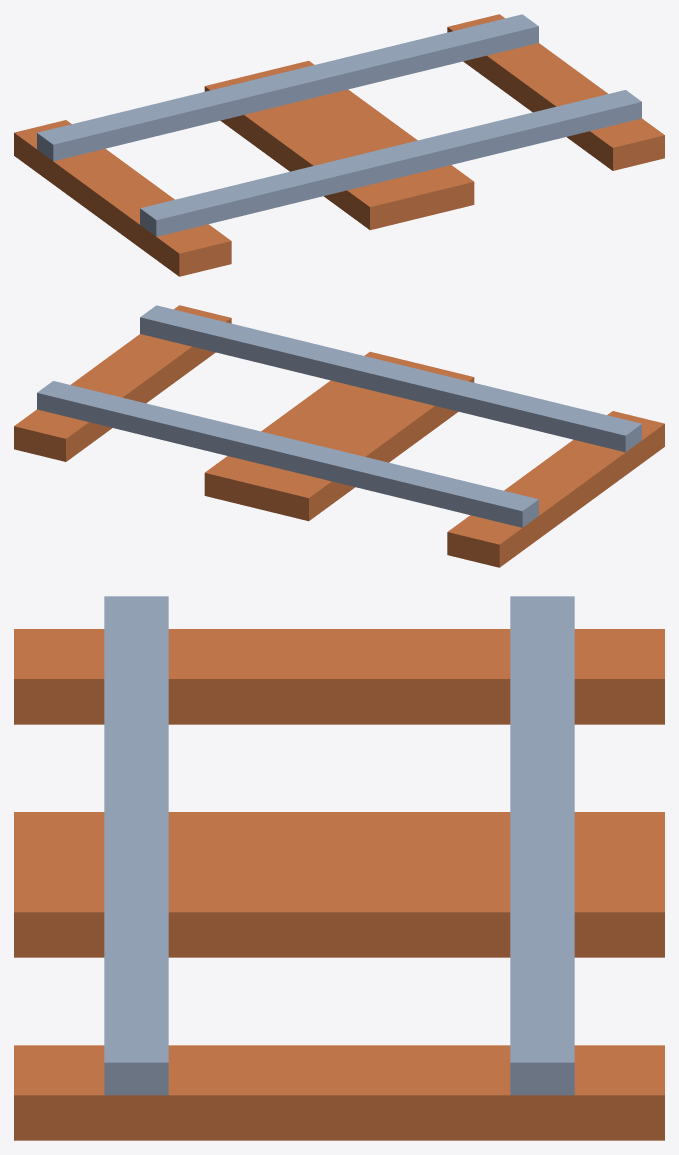
Rendered from trackStraight.fbx.
The picture shows the model from 3 angles, top to bottom: view 1: azimuth 30°, elevation 25°; view 2: azimuth 150°, elevation 25°; view 3: azimuth 270°, elevation 25°; orthographic projection. The views are drawn at different scales.
Visible parts, largest first — view 1: trackStraight; view 2: trackStraight; view 3: trackStraight.
Part boxes in pixels (bbox=[...]): trackStraight: bbox=[14, 14, 664, 276]; trackStraight: bbox=[14, 305, 664, 567]; trackStraight: bbox=[14, 596, 664, 1140].
Bounding box in the file's own units: 3.08 × 0.241 × 1.82.
